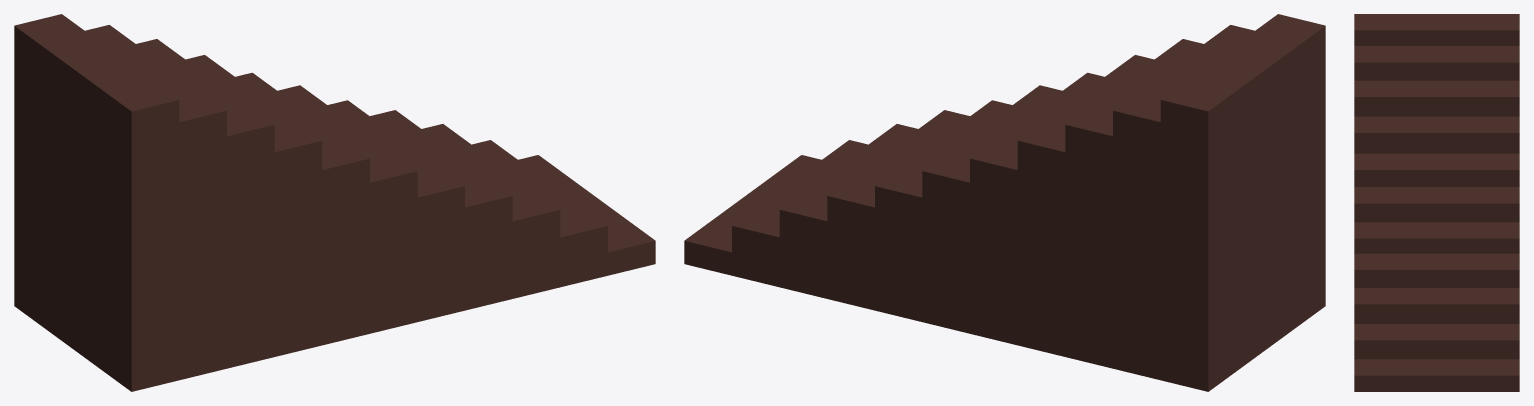
Rendered from staircase.fbx.
The picture shows the model from 3 angles, left to right: view 1: azimuth 30°, elevation 25°; view 2: azimuth 150°, elevation 25°; view 3: azimuth 270°, elevation 25°; orthographic projection. The views are drawn at different scales.
Visible parts, largest first — view 1: Cube; view 2: Cube; view 3: Cube.
Boxes of the visible parts, <box> form: Cube: <box>14,14,655,391</box>; Cube: <box>684,14,1325,391</box>; Cube: <box>1354,14,1519,391</box>.
Size of the model in its own units: 1549 by 792 by 601.
